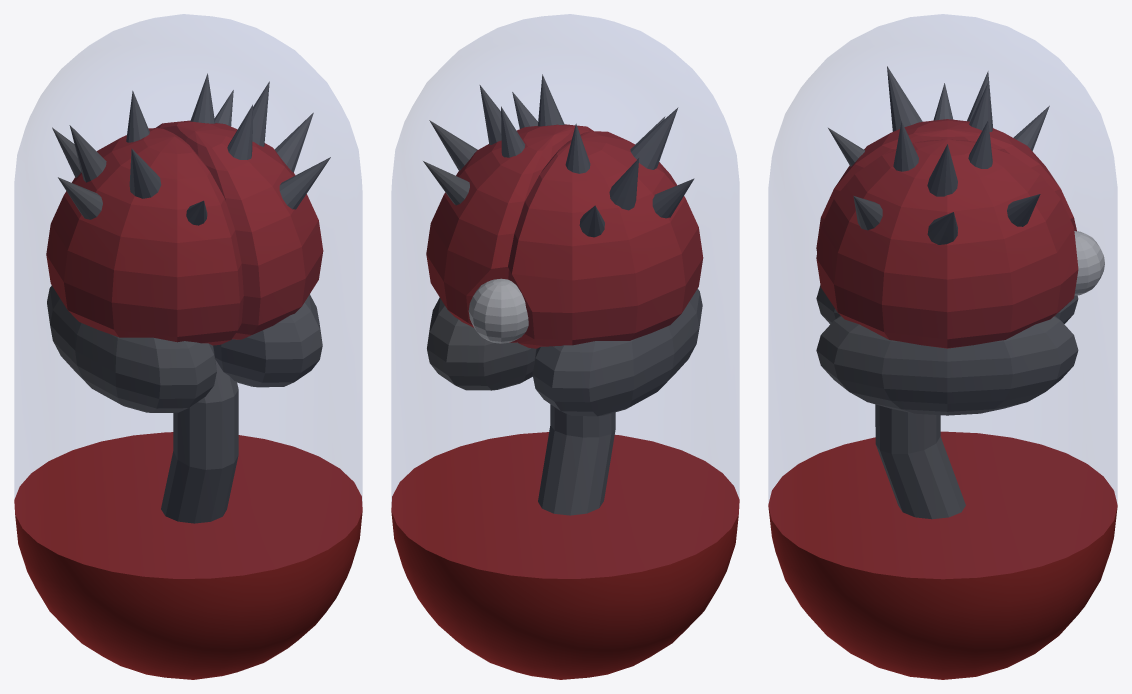
Rendered from Father Brain.fbx.
The picture shows the model from 3 angles, left to right: view 1: azimuth 30°, elevation 25°; view 2: azimuth 150°, elevation 25°; view 3: azimuth 270°, elevation 25°; orthographic projection.
Parts seen in each view (by area): view 1: Model18; view 2: Model18; view 3: Model18.
Boxes of the visible parts, x1,y1,x2,y2 form: Model18: [14, 14, 362, 679]; Model18: [391, 14, 739, 679]; Model18: [768, 14, 1117, 679].
Size of the model in its own units: 100 by 200 by 100.
